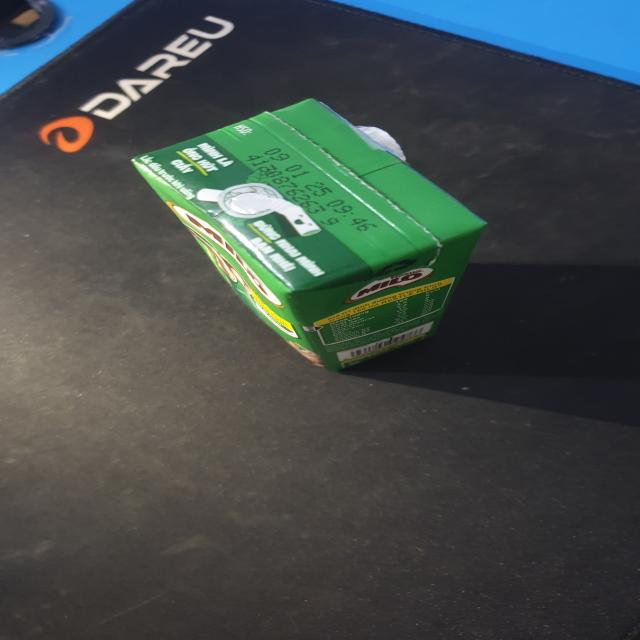Milo: (127, 96, 495, 380)
